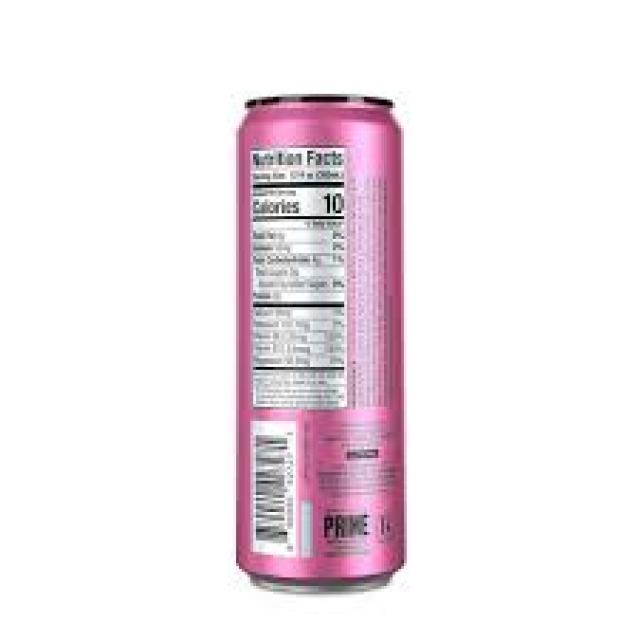Cans: (228, 85, 415, 600)
